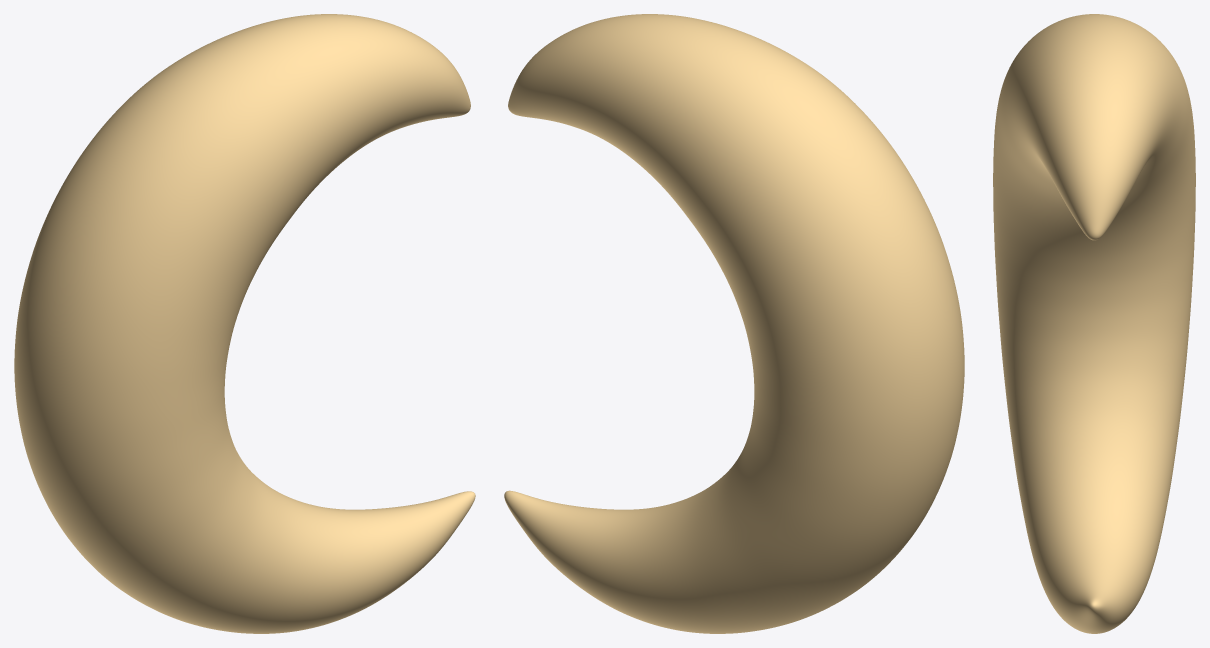
The model's file is moon.fbx.
3 renders of one model, left to right at view 1: azimuth 30°, elevation 25°; view 2: azimuth 150°, elevation 25°; view 3: azimuth 270°, elevation 25°, orthographic. The views are drawn at different scales.
Visible parts, largest first — view 1: NurbsPath; view 2: NurbsPath; view 3: NurbsPath.
Part boxes in pixels (x1,y1,x2,y2): NurbsPath: (14, 14, 475, 633); NurbsPath: (504, 14, 964, 633); NurbsPath: (993, 14, 1195, 633).
Size of the model in its own units: 152 by 195 by 63.23.
